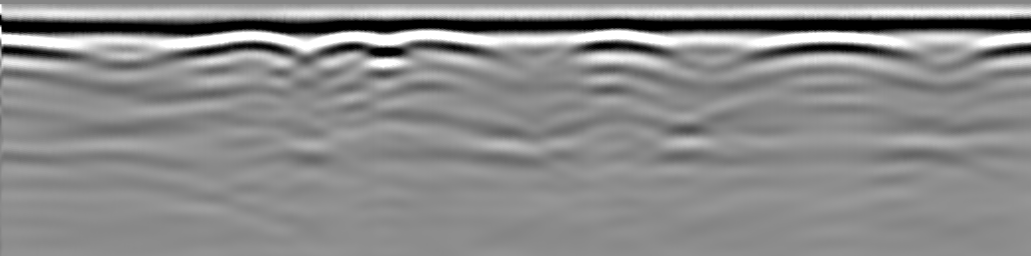steel: (739, 31, 919, 63), (308, 34, 495, 58), (558, 33, 680, 56), (187, 35, 298, 57)
